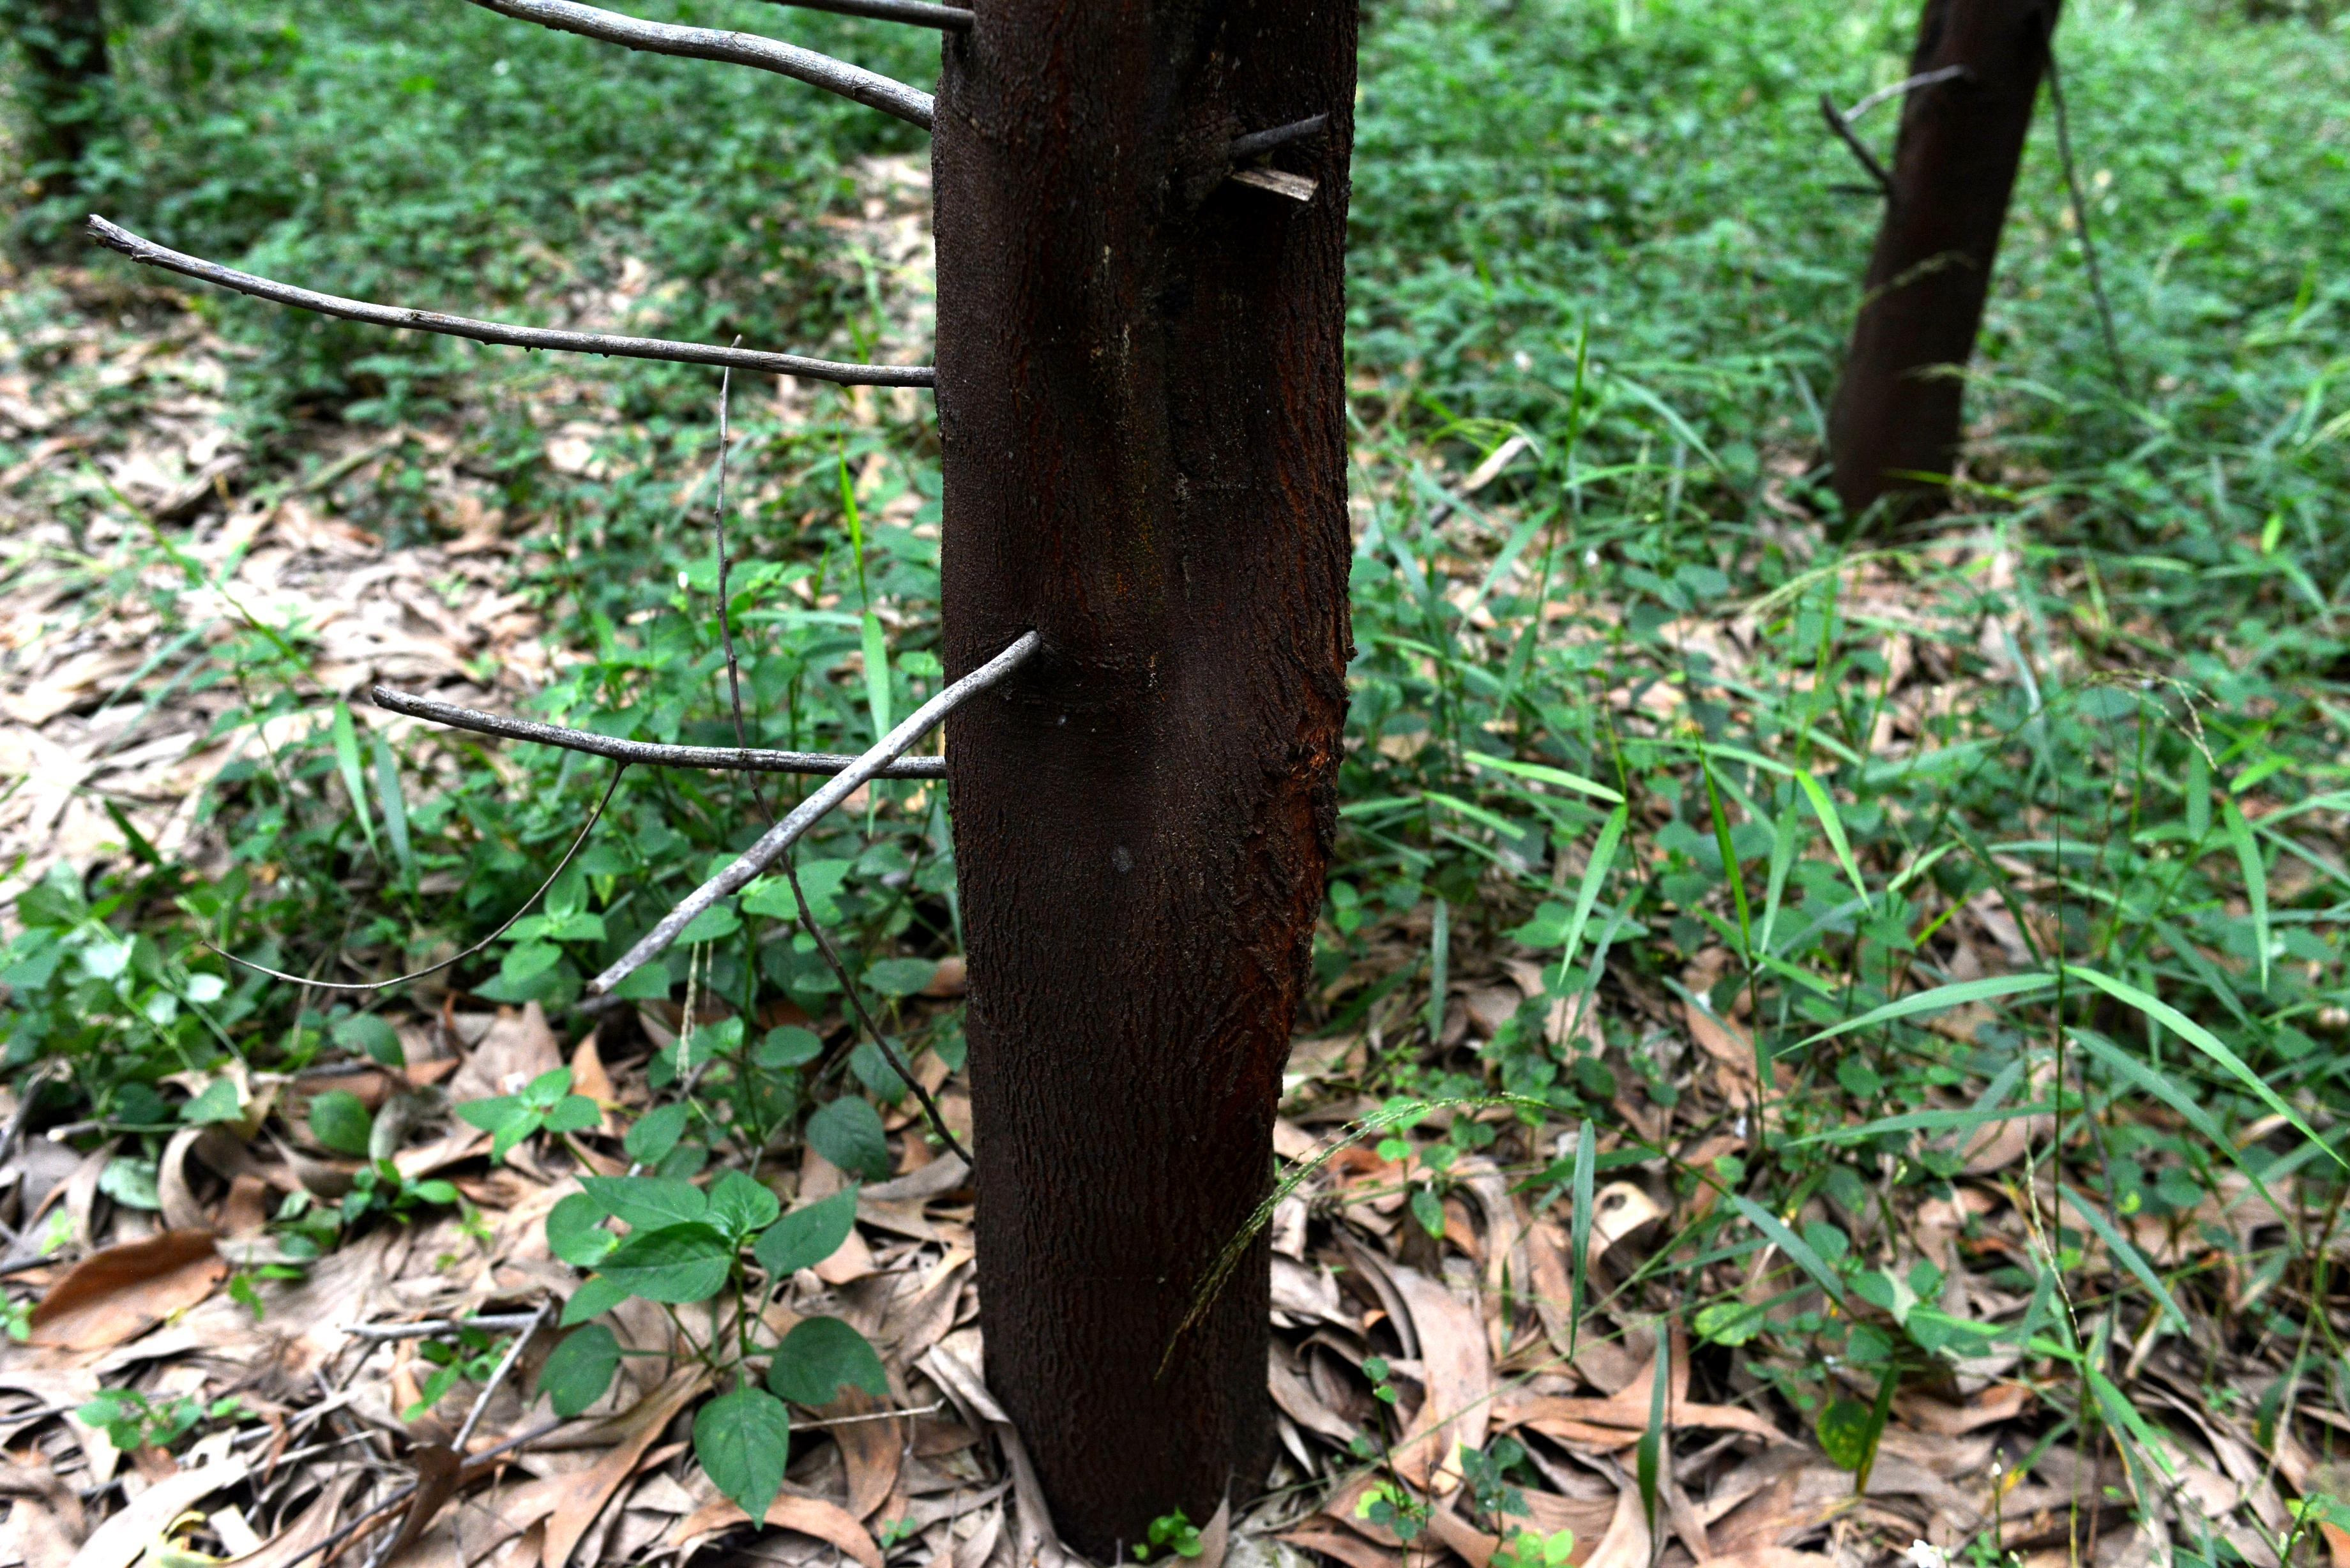Stem Deformation: (938, 0, 1346, 1568)
